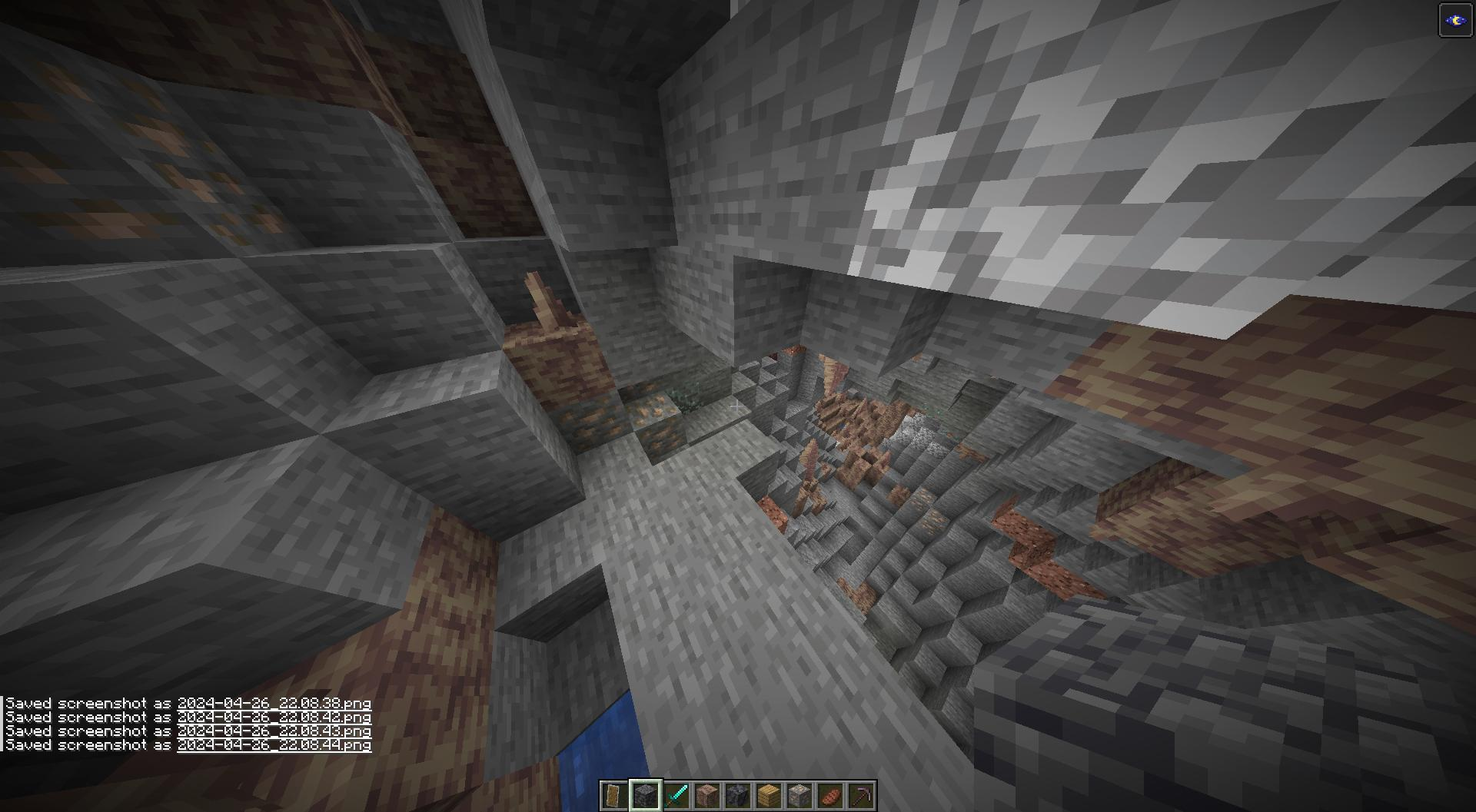iron ore: (0, 40, 293, 255), (623, 376, 686, 447), (553, 396, 631, 450), (905, 488, 952, 540)
